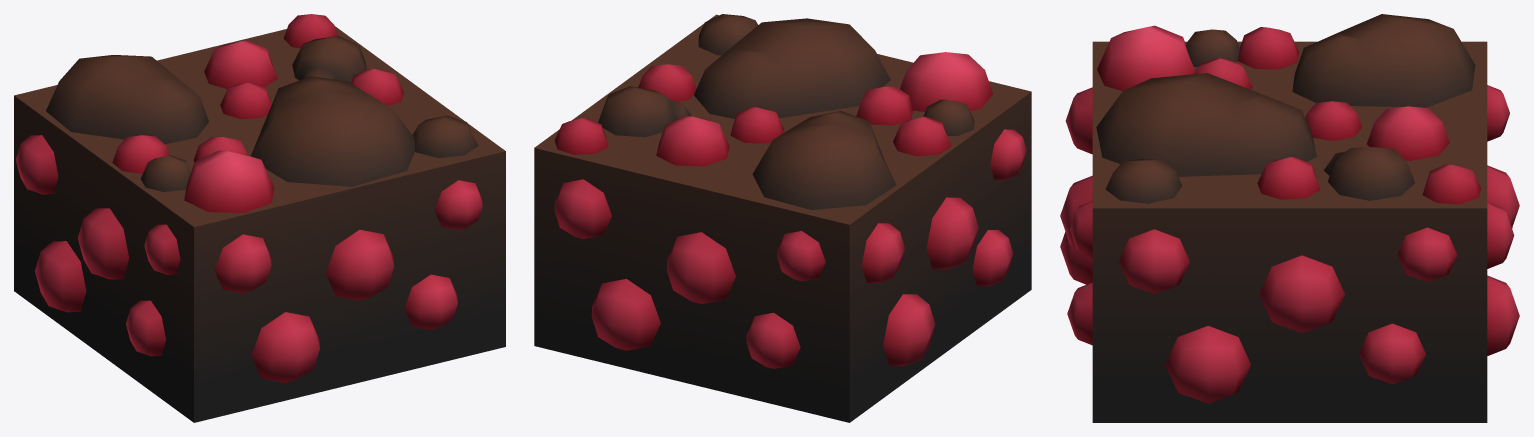
Rendered from m_SheetCake02_Slice03.fbx.
3 renders of one model, left to right at view 1: azimuth 30°, elevation 25°; view 2: azimuth 150°, elevation 25°; view 3: azimuth 270°, elevation 25°, orthographic. The views are drawn at different scales.
Visible parts, largest first — view 1: m_SheetCake02_Slice03; view 2: m_SheetCake02_Slice03; view 3: m_SheetCake02_Slice03.
Boxes of the visible parts, x1,y1,x2,y2 form: m_SheetCake02_Slice03: (14, 14, 505, 422); m_SheetCake02_Slice03: (534, 14, 1031, 422); m_SheetCake02_Slice03: (1060, 14, 1519, 422).
Size of the model in its own units: 11.65 by 7.57 by 11.65.
